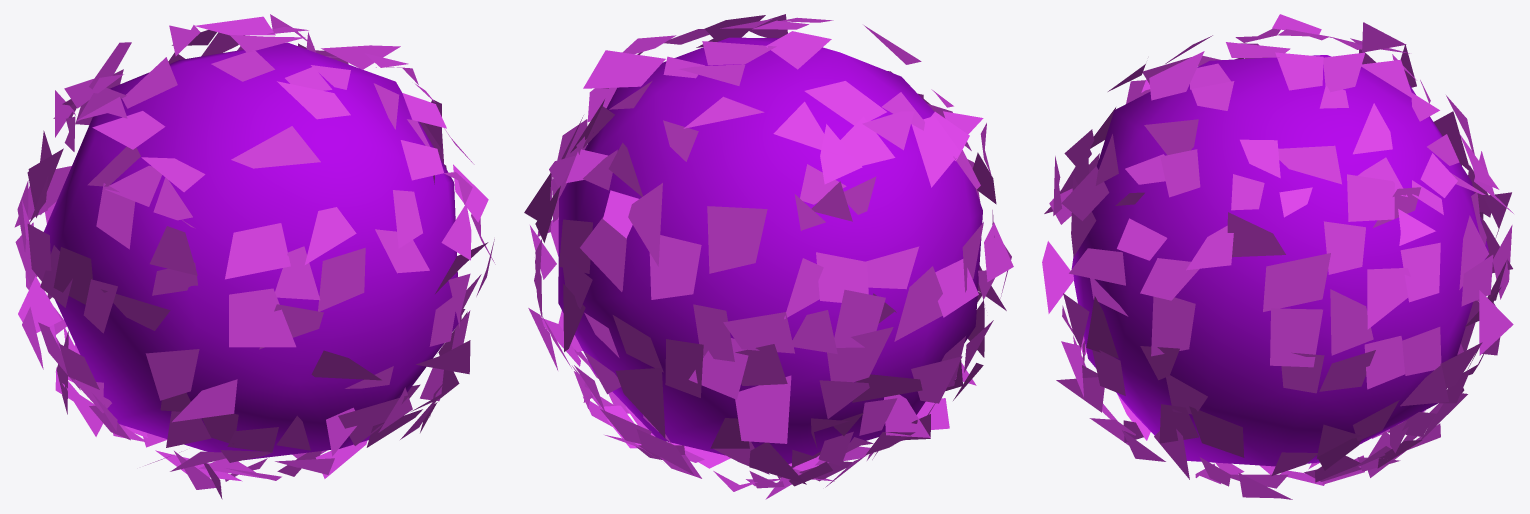
Rendered from Bush 1.fbx.
3 views of the same model, side by side, from view 1: azimuth 30°, elevation 25°; view 2: azimuth 150°, elevation 25°; view 3: azimuth 270°, elevation 25° (orthographic). The views are drawn at different scales.
Parts seen in each view (by area): view 1: Cube.001; view 2: Cube.001; view 3: Cube.001.
Boxes of the visible parts, x1,y1,x2,y2 form: Cube.001: (14,14,495,499); Cube.001: (524,14,1013,499); Cube.001: (1042,14,1513,499).
Bounding box in the file's own units: 1.95 × 1.88 × 1.91.
